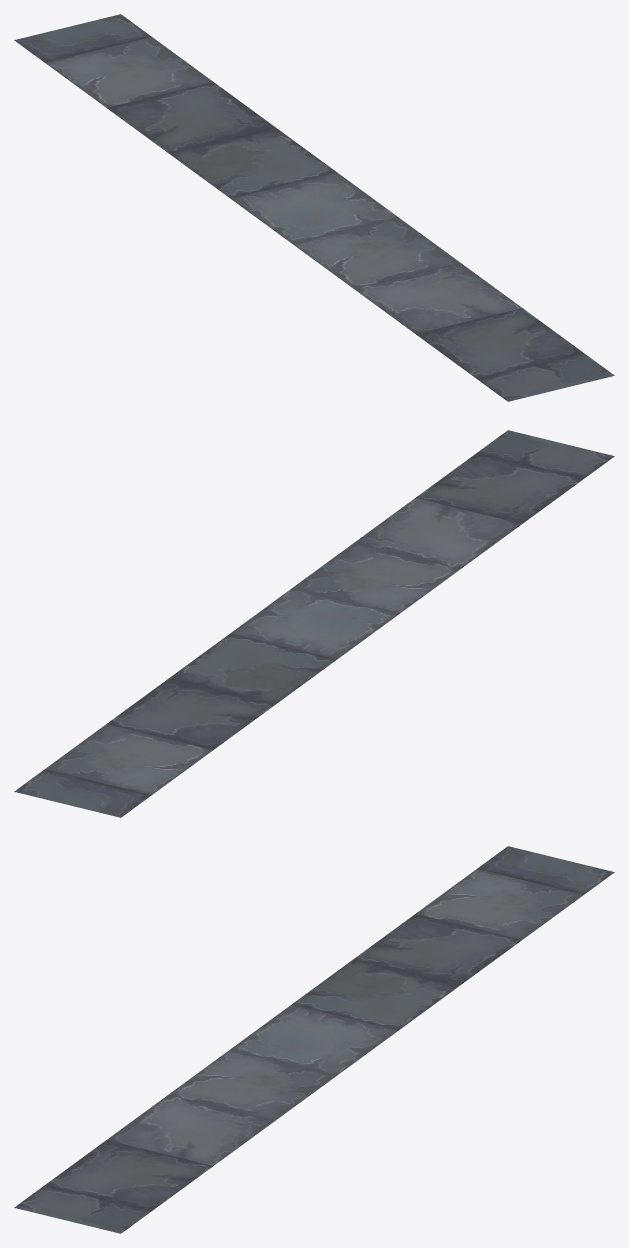
The model's file is Castle Ground X Mix 1x8.fbx.
The picture shows the model from 3 angles, top to bottom: view 1: azimuth 30°, elevation 25°; view 2: azimuth 150°, elevation 25°; view 3: azimuth 330°, elevation 25°; orthographic projection.
Visible parts, largest first — view 1: Castle Ground X Mix 1x8; view 2: Castle Ground X Mix 1x8; view 3: Castle Ground X Mix 1x8.
Boxes of the visible parts, bbox=[...] form: Castle Ground X Mix 1x8: bbox=[14, 14, 614, 401]; Castle Ground X Mix 1x8: bbox=[14, 430, 614, 817]; Castle Ground X Mix 1x8: bbox=[14, 846, 614, 1233].
Bounding box in the file's own units: 0.75 × 9.23e-07 × 6.
